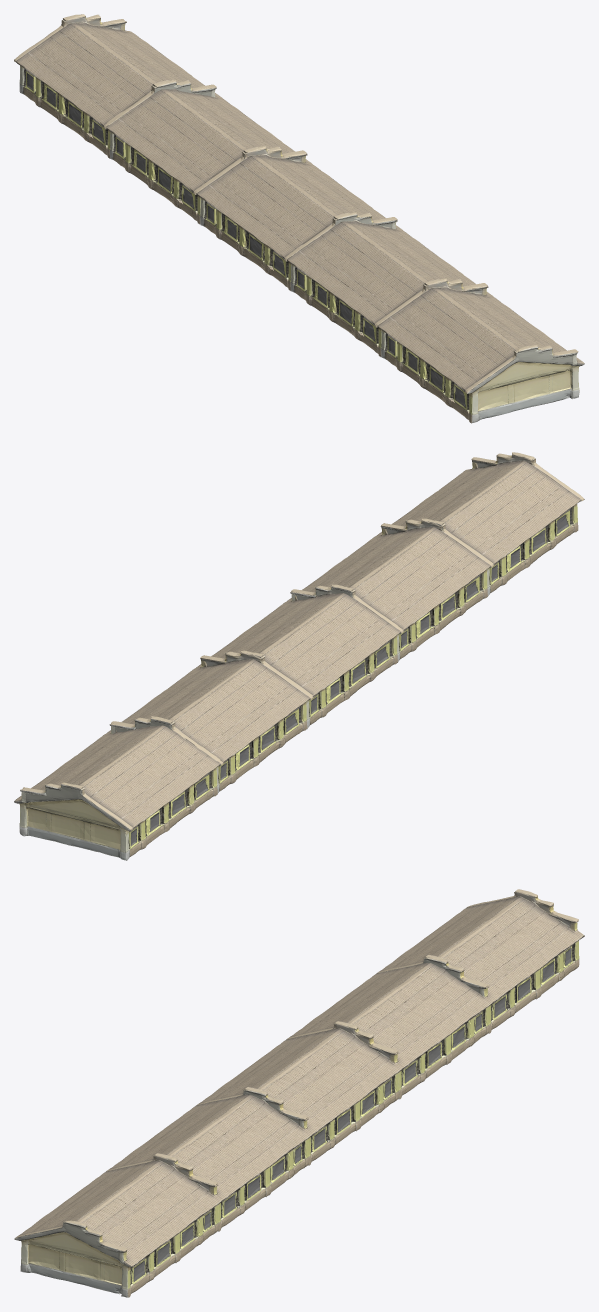
Rendered from EcLabs.glb.
3 renders of one model, top to bottom at view 1: azimuth 30°, elevation 25°; view 2: azimuth 150°, elevation 25°; view 3: azimuth 330°, elevation 25°, orthographic.
Parts seen in each view (by area): view 1: tripo_node_10db6ebb-d88b-41a6-99f3-9fc83eae1d02.002, tripo_node_10db6ebb-d88b-41a6-99f3-9fc83eae1d02.004, tripo_node_10db6ebb-d88b-41a6-99f3-9fc83eae1d02, tripo_node_10db6ebb-d88b-41a6-99f3-9fc83eae1d02.001, tripo_node_10db6ebb-d88b-41a6-99f3-9fc83eae1d02.003; view 2: tripo_node_10db6ebb-d88b-41a6-99f3-9fc83eae1d02.004, tripo_node_10db6ebb-d88b-41a6-99f3-9fc83eae1d02.003, tripo_node_10db6ebb-d88b-41a6-99f3-9fc83eae1d02.001, tripo_node_10db6ebb-d88b-41a6-99f3-9fc83eae1d02.002, tripo_node_10db6ebb-d88b-41a6-99f3-9fc83eae1d02; view 3: tripo_node_10db6ebb-d88b-41a6-99f3-9fc83eae1d02.002, tripo_node_10db6ebb-d88b-41a6-99f3-9fc83eae1d02.004, tripo_node_10db6ebb-d88b-41a6-99f3-9fc83eae1d02, tripo_node_10db6ebb-d88b-41a6-99f3-9fc83eae1d02.001, tripo_node_10db6ebb-d88b-41a6-99f3-9fc83eae1d02.003.
Boxes of the visible parts, box(x1,y1,x2,y2) form: tripo_node_10db6ebb-d88b-41a6-99f3-9fc83eae1d02.002: box(376, 279, 584, 423); tripo_node_10db6ebb-d88b-41a6-99f3-9fc83eae1d02.004: box(14, 14, 222, 158); tripo_node_10db6ebb-d88b-41a6-99f3-9fc83eae1d02: box(195, 146, 403, 290); tripo_node_10db6ebb-d88b-41a6-99f3-9fc83eae1d02.001: box(285, 212, 493, 356); tripo_node_10db6ebb-d88b-41a6-99f3-9fc83eae1d02.003: box(104, 80, 311, 224); tripo_node_10db6ebb-d88b-41a6-99f3-9fc83eae1d02.004: box(14, 716, 223, 860); tripo_node_10db6ebb-d88b-41a6-99f3-9fc83eae1d02.003: box(106, 651, 313, 793); tripo_node_10db6ebb-d88b-41a6-99f3-9fc83eae1d02.001: box(286, 518, 494, 661); tripo_node_10db6ebb-d88b-41a6-99f3-9fc83eae1d02.002: box(376, 452, 584, 595); tripo_node_10db6ebb-d88b-41a6-99f3-9fc83eae1d02: box(196, 584, 404, 728); tripo_node_10db6ebb-d88b-41a6-99f3-9fc83eae1d02.002: box(14, 1153, 223, 1297); tripo_node_10db6ebb-d88b-41a6-99f3-9fc83eae1d02.004: box(378, 889, 584, 1033); tripo_node_10db6ebb-d88b-41a6-99f3-9fc83eae1d02: box(198, 1021, 404, 1165); tripo_node_10db6ebb-d88b-41a6-99f3-9fc83eae1d02.001: box(107, 1087, 314, 1231); tripo_node_10db6ebb-d88b-41a6-99f3-9fc83eae1d02.003: box(287, 955, 493, 1099).
Bounding box in the file's own units: 0.7262 × 0.3692 × 4.83.
5 materials, 5 textured.
